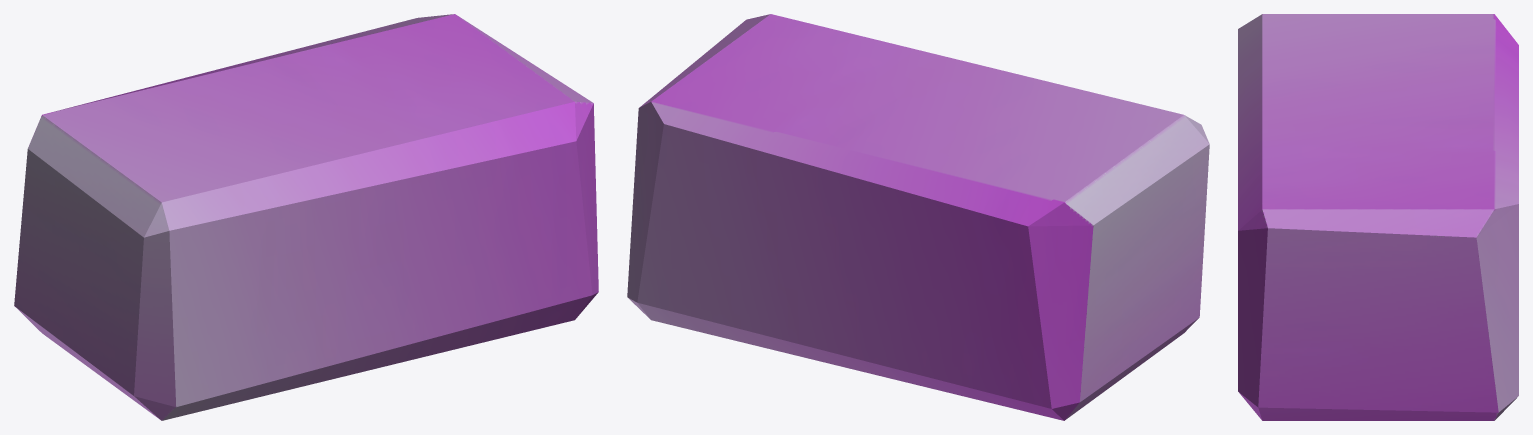
Rendered from PuepleRectangle.fbx.
The picture shows the model from 3 angles, left to right: view 1: azimuth 30°, elevation 25°; view 2: azimuth 150°, elevation 25°; view 3: azimuth 270°, elevation 25°; orthographic projection. The views are drawn at different scales.
Parts seen in each view (by area): view 1: Cube.004; view 2: Cube.004; view 3: Cube.004.
Part boxes in pixels (bbox=[...]): Cube.004: bbox=[14, 14, 598, 420]; Cube.004: bbox=[627, 14, 1209, 420]; Cube.004: bbox=[1238, 14, 1518, 420].
Size of the model in its own units: 102 by 46.67 by 56.12.
